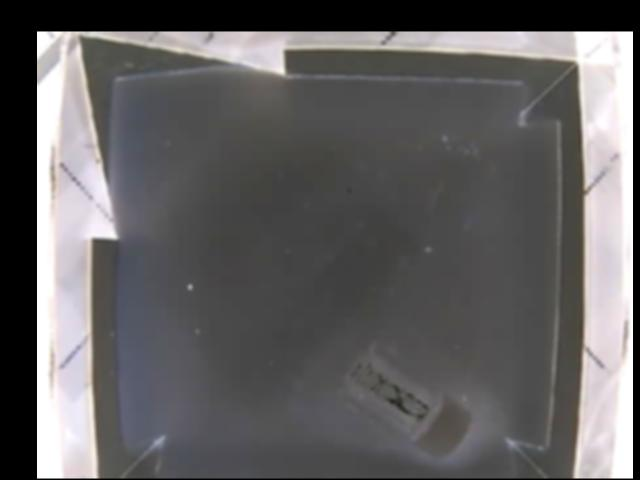Bottle: (345, 343, 473, 453)
